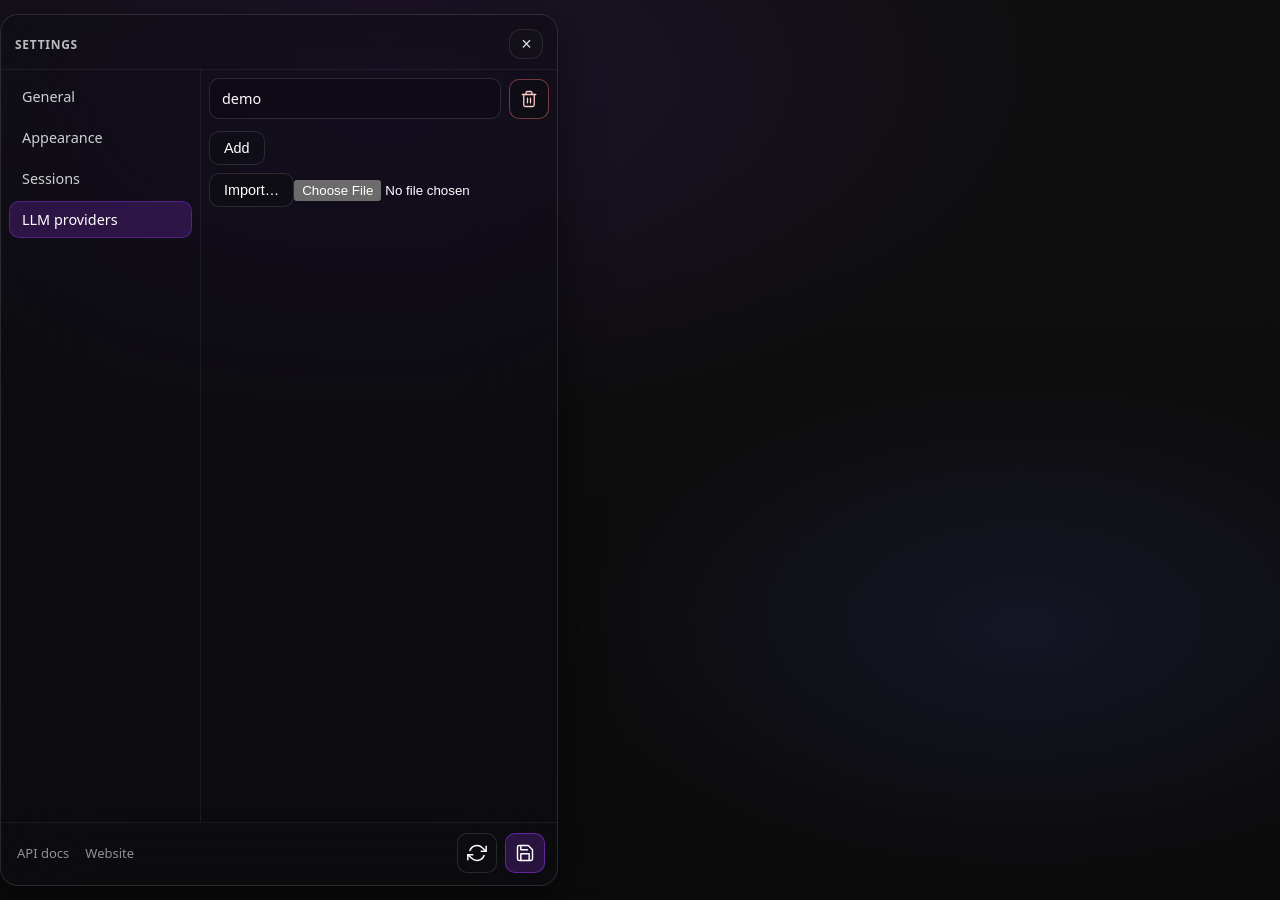
the head titles an open row form and its arrow goes back to the list
The image size is (1280, 900).
Expected: the element with class "sessions-head" shows "Settings", [15,36,78,52]
Step 1. Click the button with test id "settings-master-item-0" → [242, 98], box [209,78,501,119]
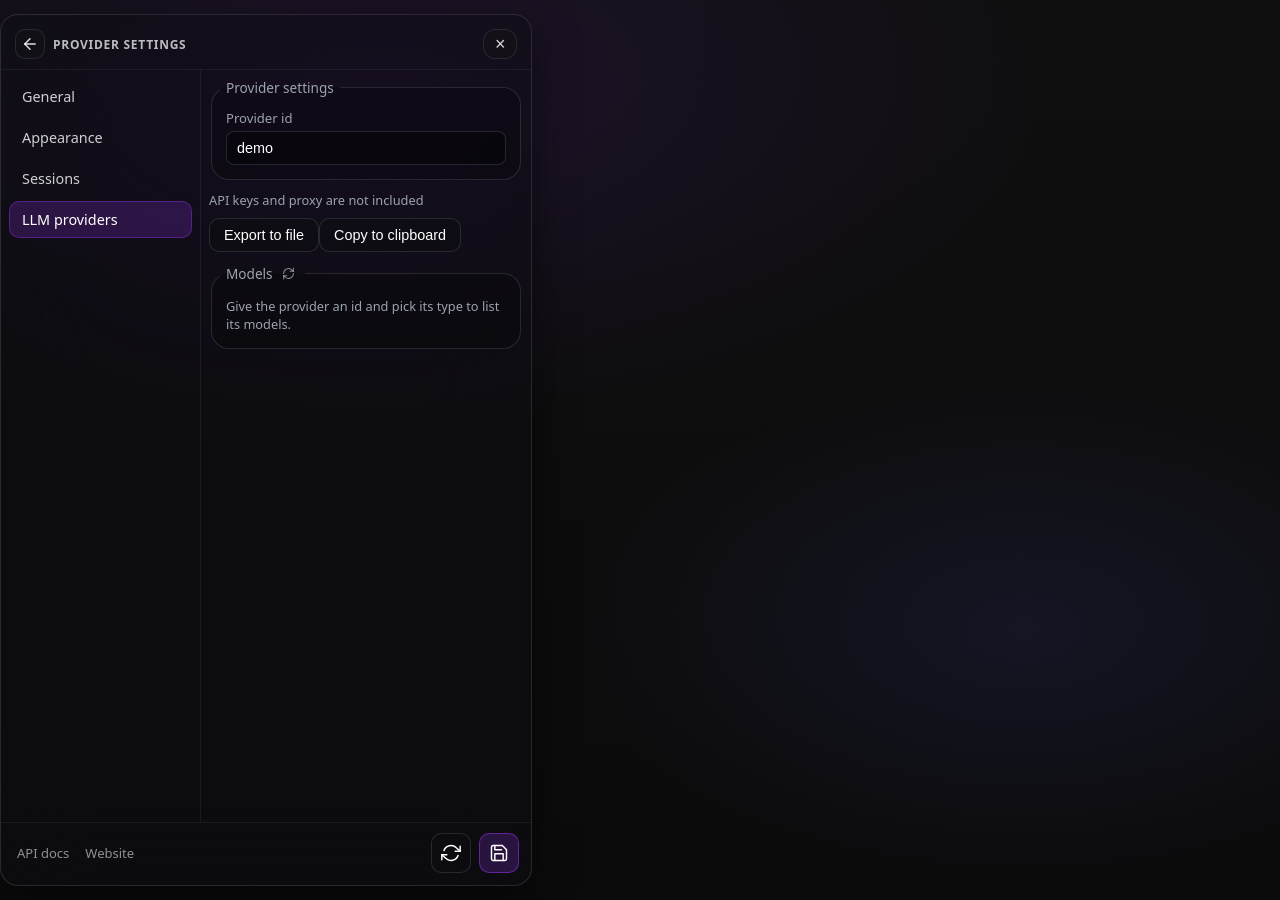
Now the text with class "settings-head-section" reads "Provider settings", box [53,36,186,52]
Step 2. Click the button with test id "settings-head-back" → [30, 44], box [15,29,45,59]
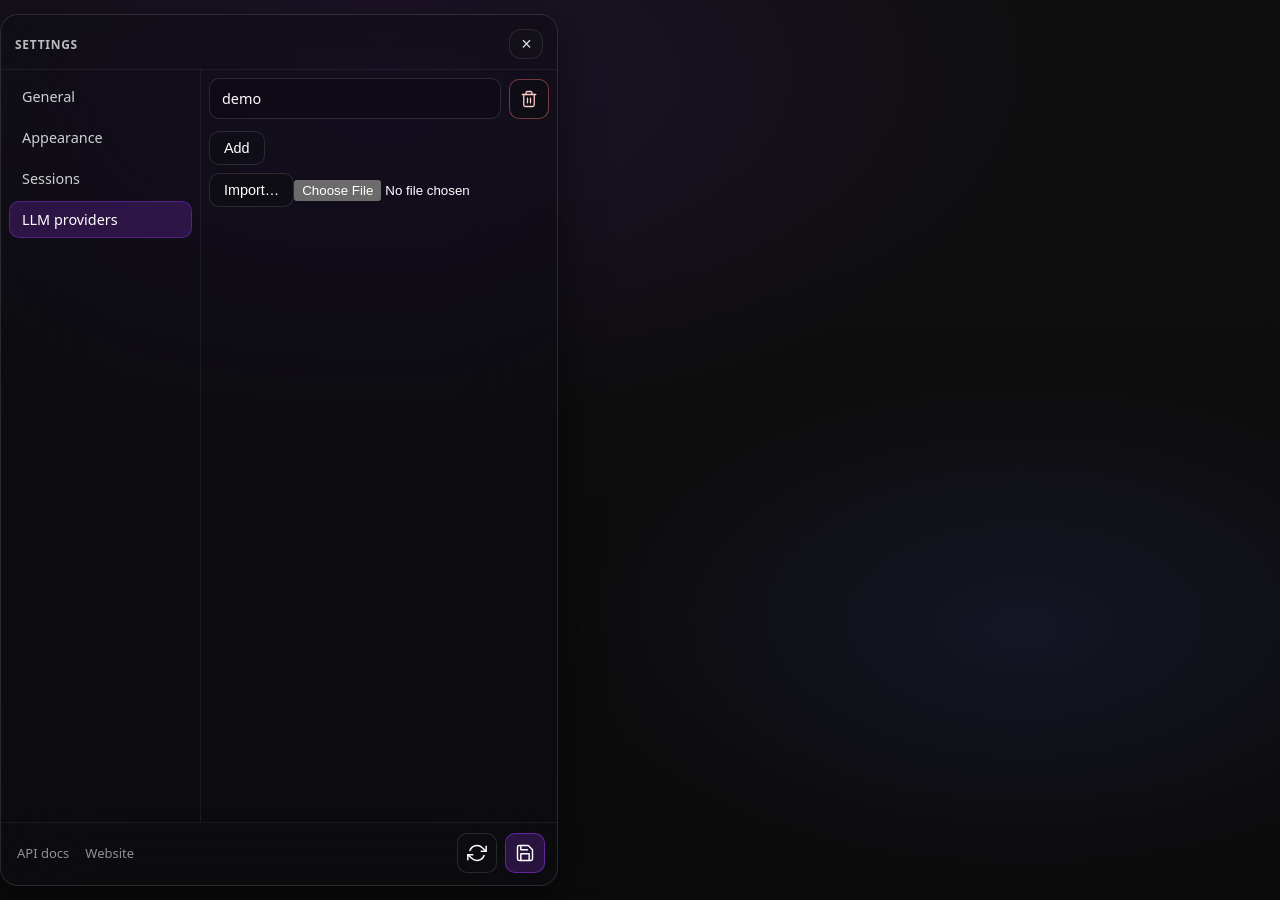
Now the button with test id "settings-master-item-0" is shown, box [209,78,501,119]
Now the text with class "settings-head-section" is gone
